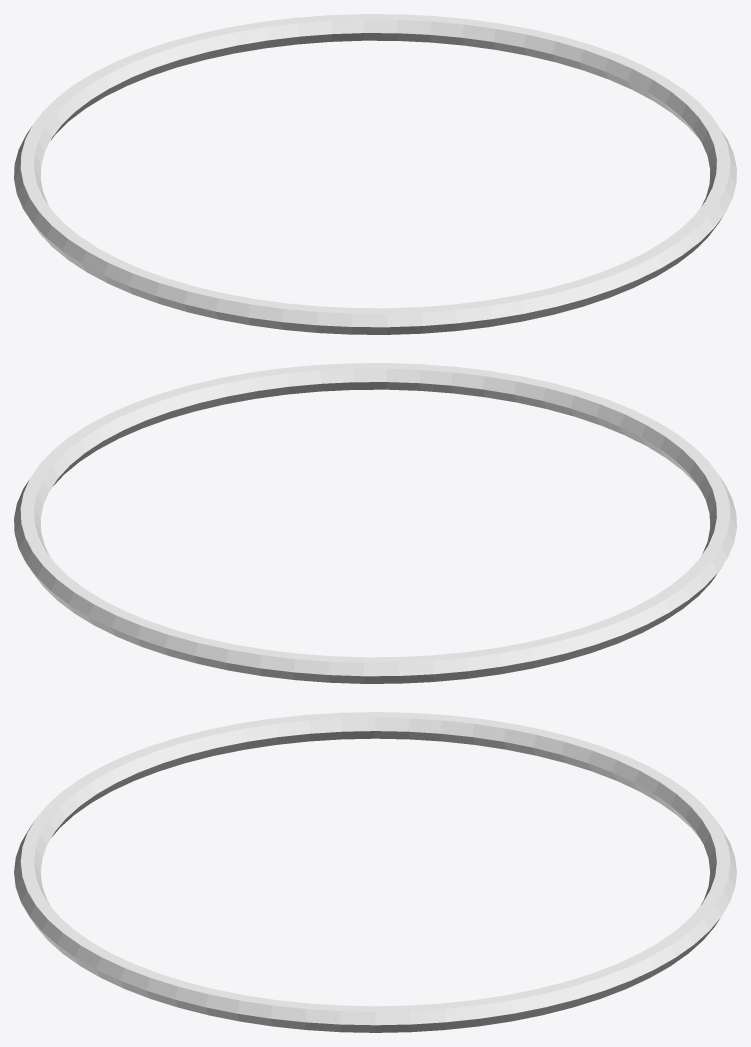
The model's file is ghost.obj.
3 renders of one model, top to bottom at view 1: azimuth 30°, elevation 25°; view 2: azimuth 150°, elevation 25°; view 3: azimuth 270°, elevation 25°, orthographic.
Bounding box in the file's own units: 0.0593 × 0.00191 × 0.0593.
1 material, 1 textured.
